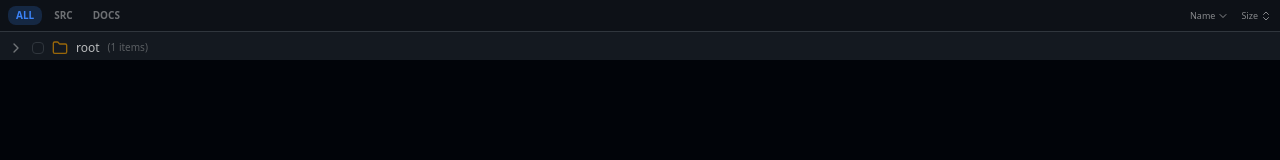
Test case: FileTree Hierarchy › Hierarchical ordering › should show correct indentation levels
This screenshot has width=1280, height=160.
Expected: the text "root" is shown, [76,38,100,56]
Note: Expand all
What coordinates should you click on to do the following:
click the button with test id "expand-icon"
I would click on:
 (16, 48)
Its box is [6,38,26,58].
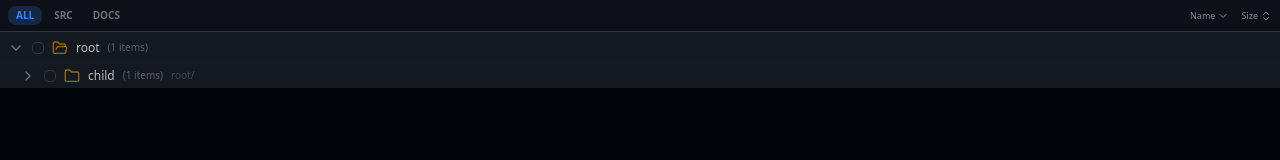
Now the text "child" is shown, box [88,66,115,84]
What coordinates should you click on to do the following:
click the 2nd button with test id "expand-icon"
I would click on:
 (28, 76)
Its box is [18,66,38,86].
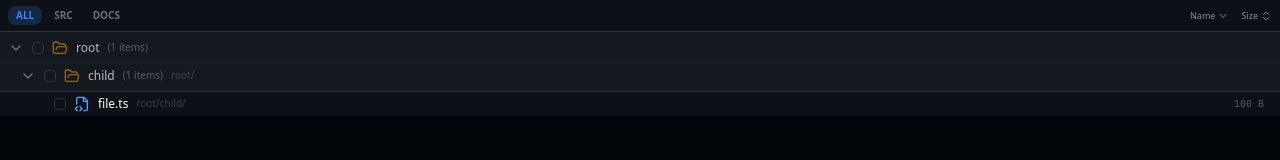
Now the text "file.ts" is shown, box [98,94,128,112]
Now the number of list items with test id "tree-node" is 3, box [0,32,1279,64]; [0,60,1279,92]; [0,88,1279,116]
